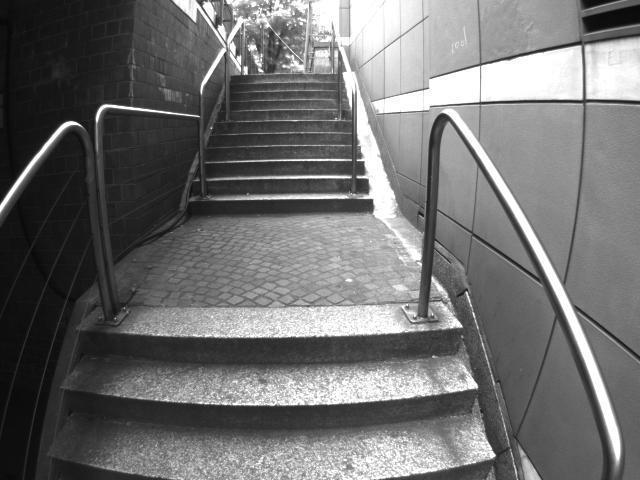Escaleras: (44, 287, 523, 479), (188, 73, 382, 209)
